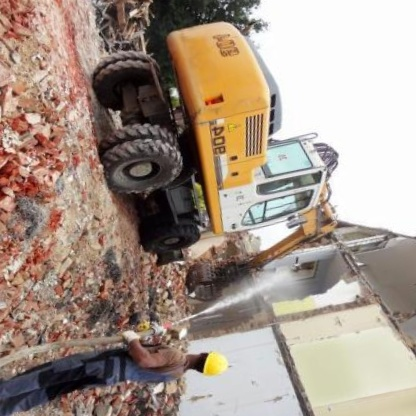yellow: (195, 345, 236, 384)
